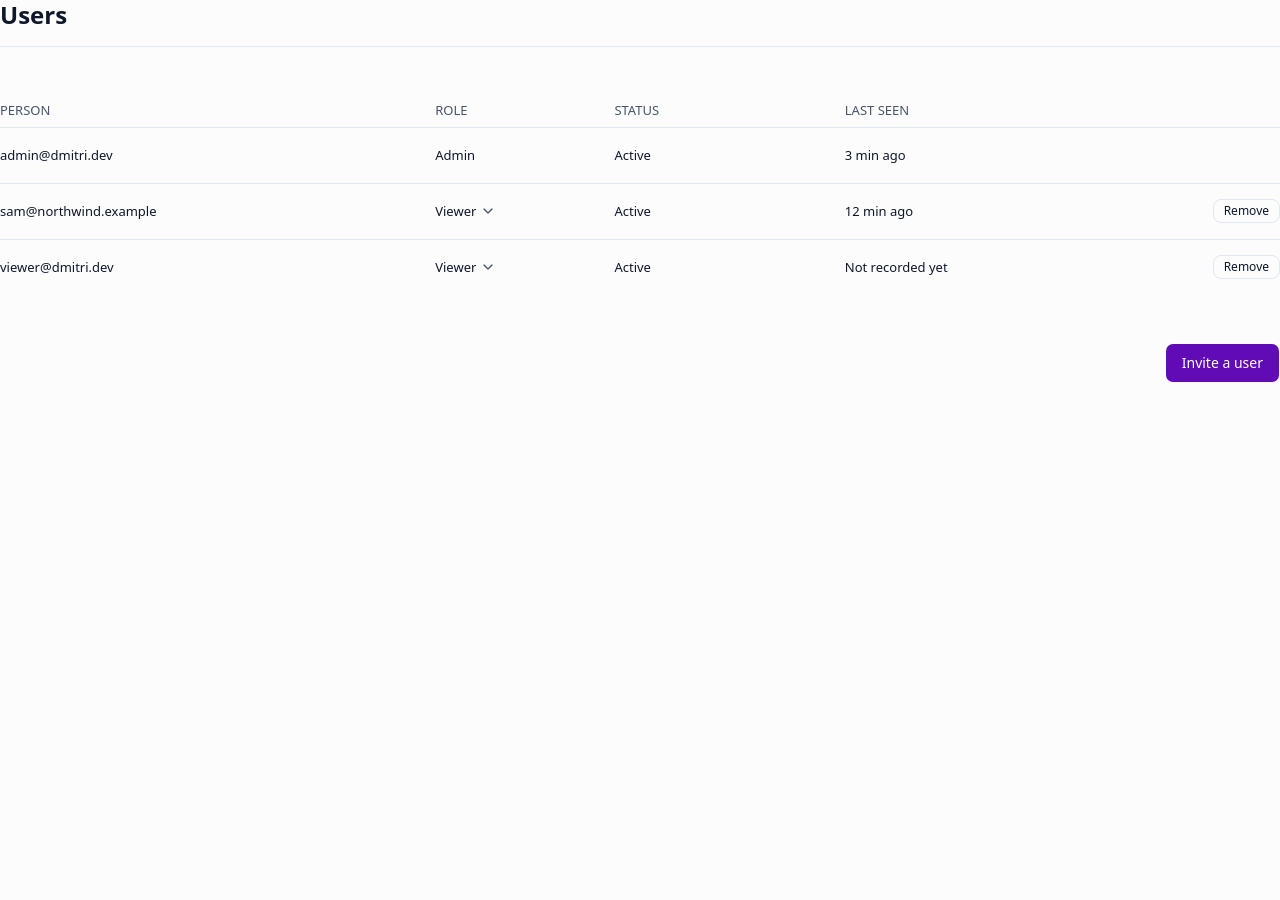
Users member removal › leaves the confirm inert for a mistyped address and for the admin's own, firing no request
Click the button "Remove" in the row of "sam@northwind.example" at {"x": 1246, "y": 211}, box left=1213, top=199, right=1279, bottom=223
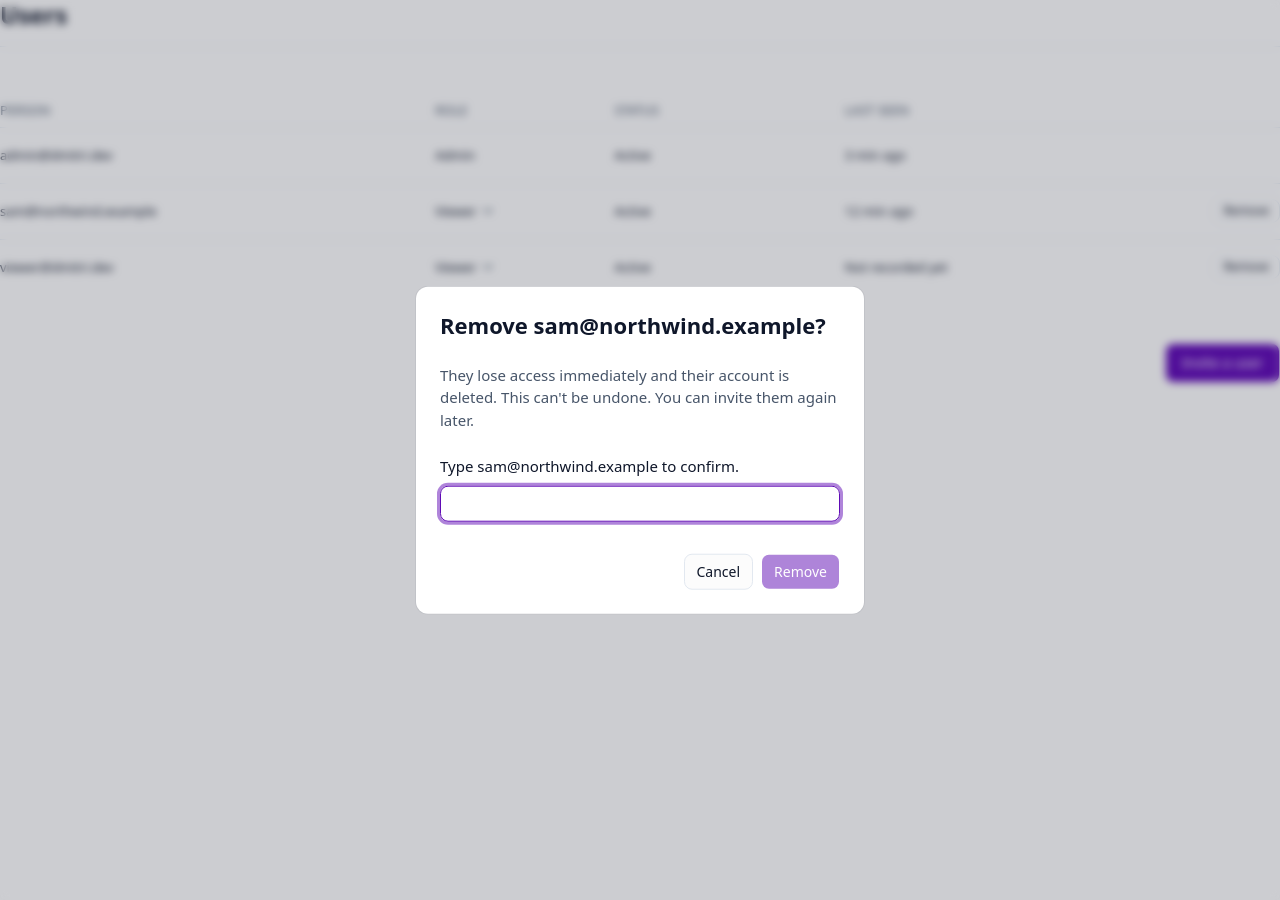
Type "sam@northwind.exampl" into the field labelled "Type sam@northwind.example to confirm." at {"x": 640, "y": 503}, box left=440, top=485, right=840, bottom=521
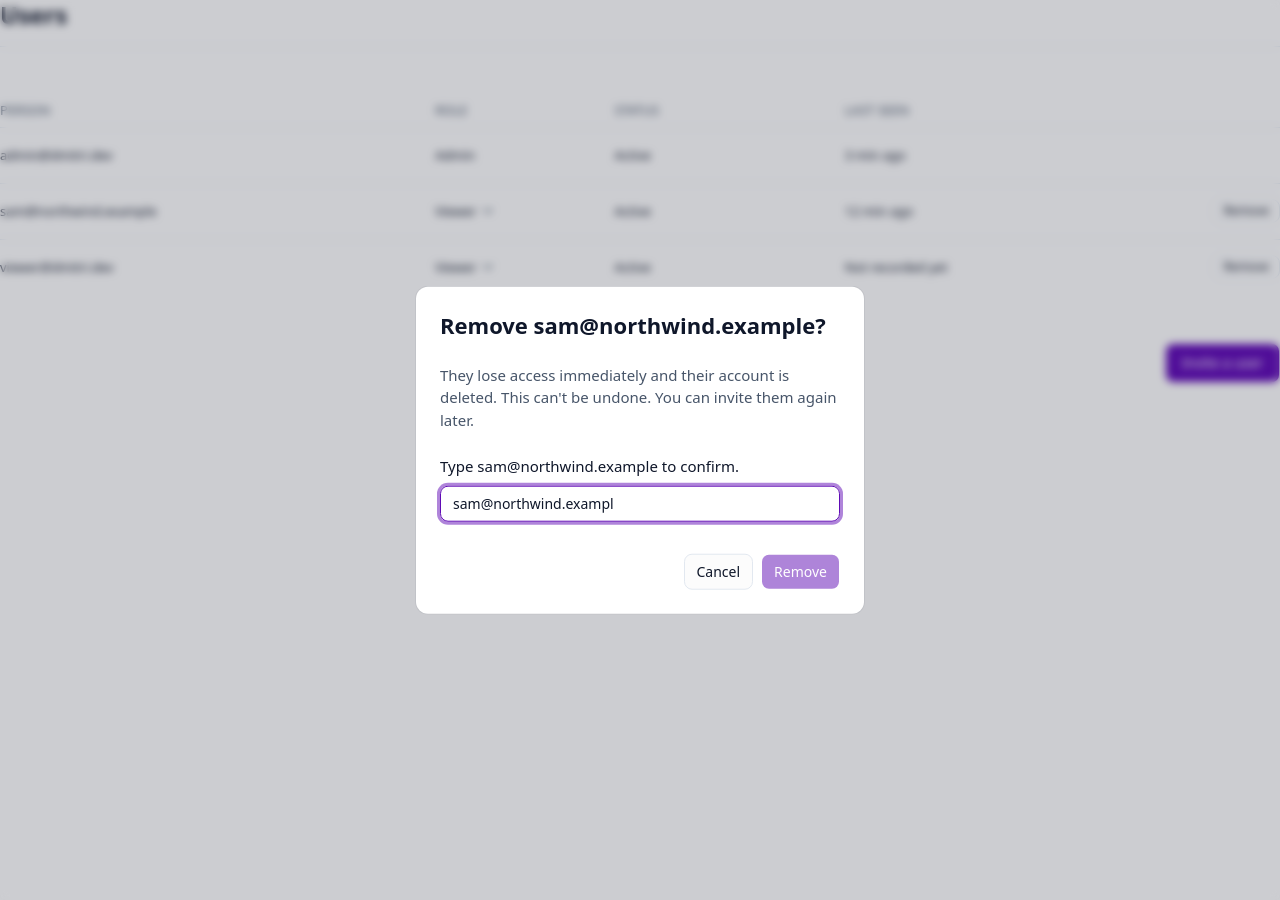
Click the button with test id "confirm-by-typing-submit" at {"x": 801, "y": 571}, box left=761, top=553, right=840, bottom=589
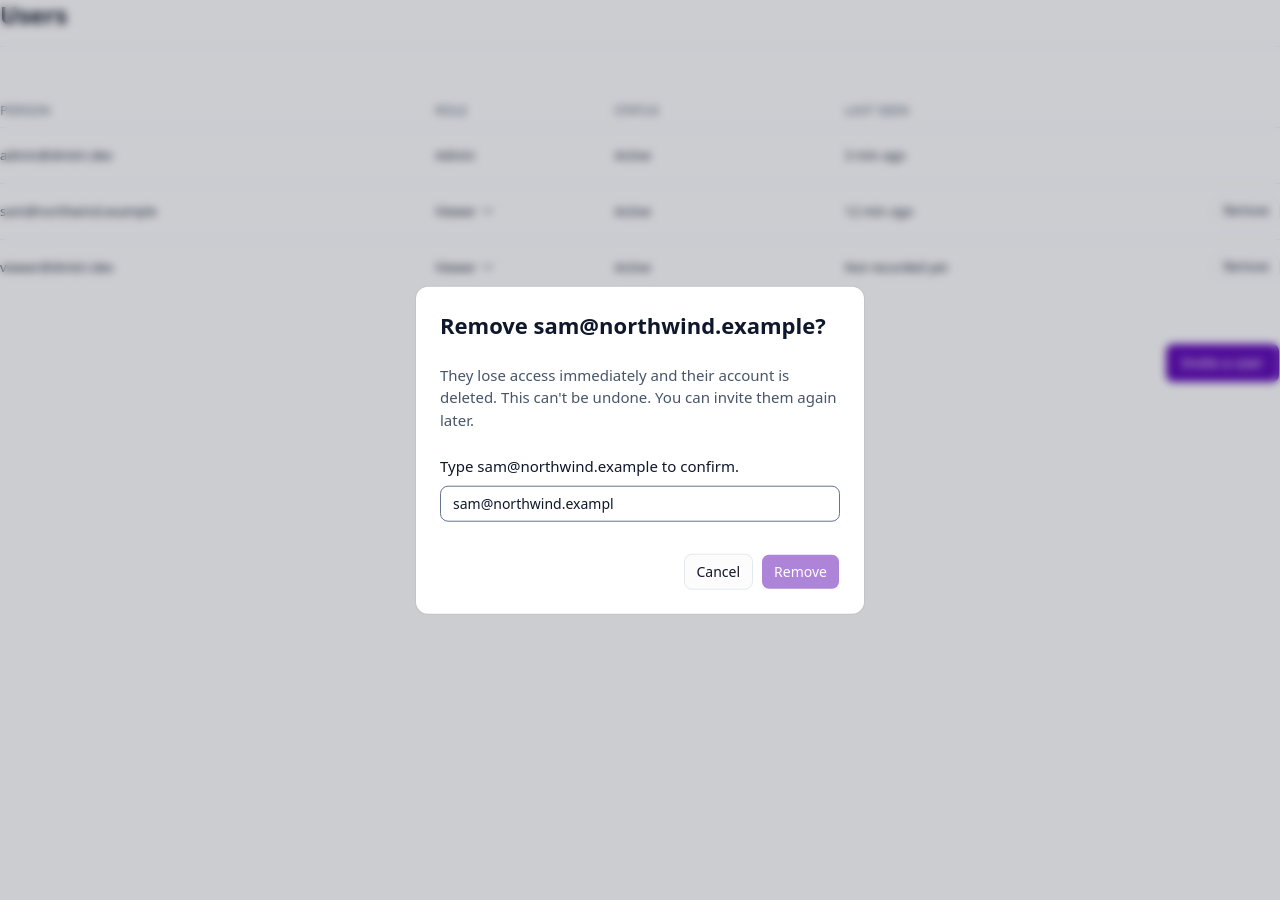
Replace the text in the field labelled "Type sam@northwind.example to confirm." with "admin@dmitri.dev" at {"x": 640, "y": 503}, box left=440, top=485, right=840, bottom=521
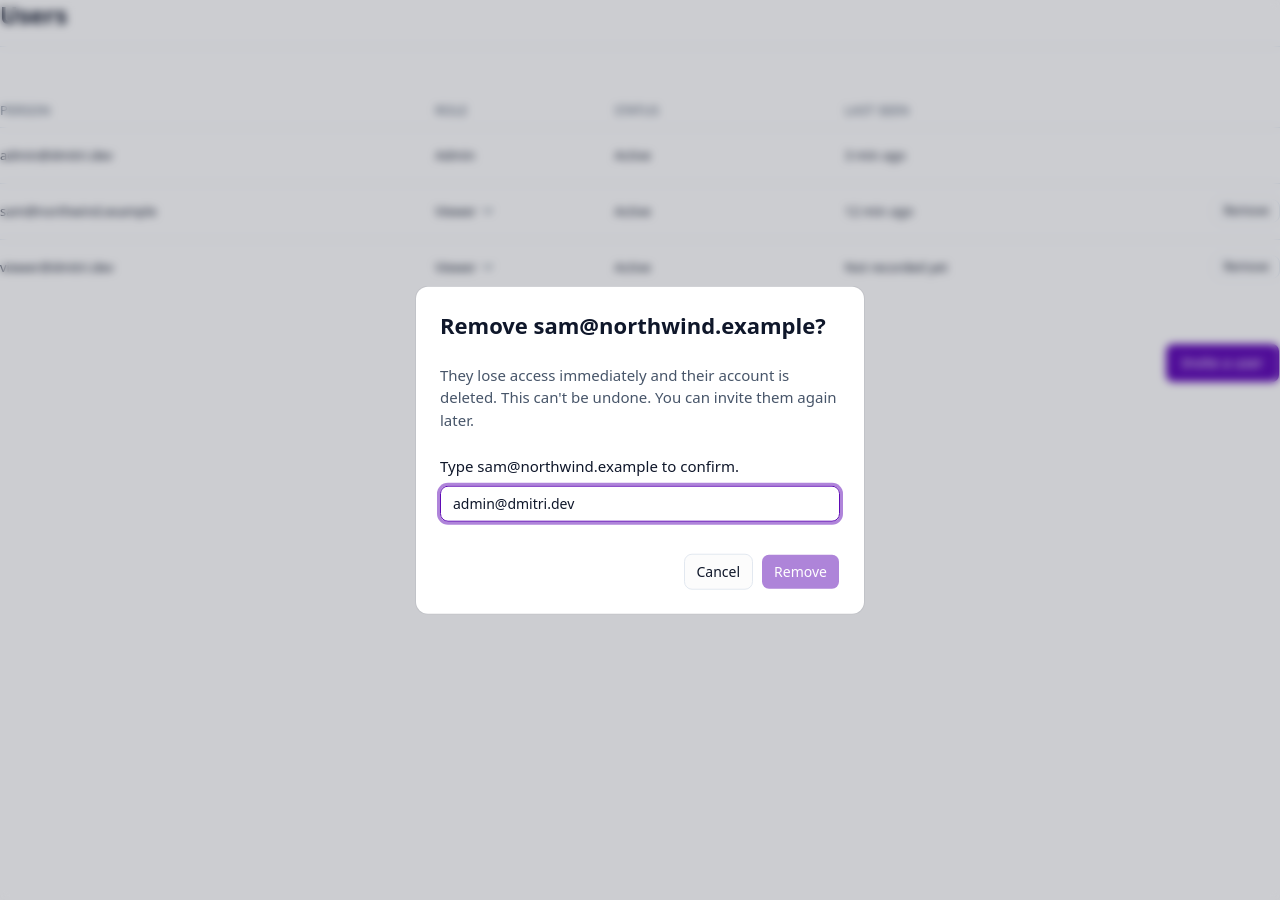
Click the button with test id "confirm-by-typing-submit" at {"x": 801, "y": 571}, box left=761, top=553, right=840, bottom=589
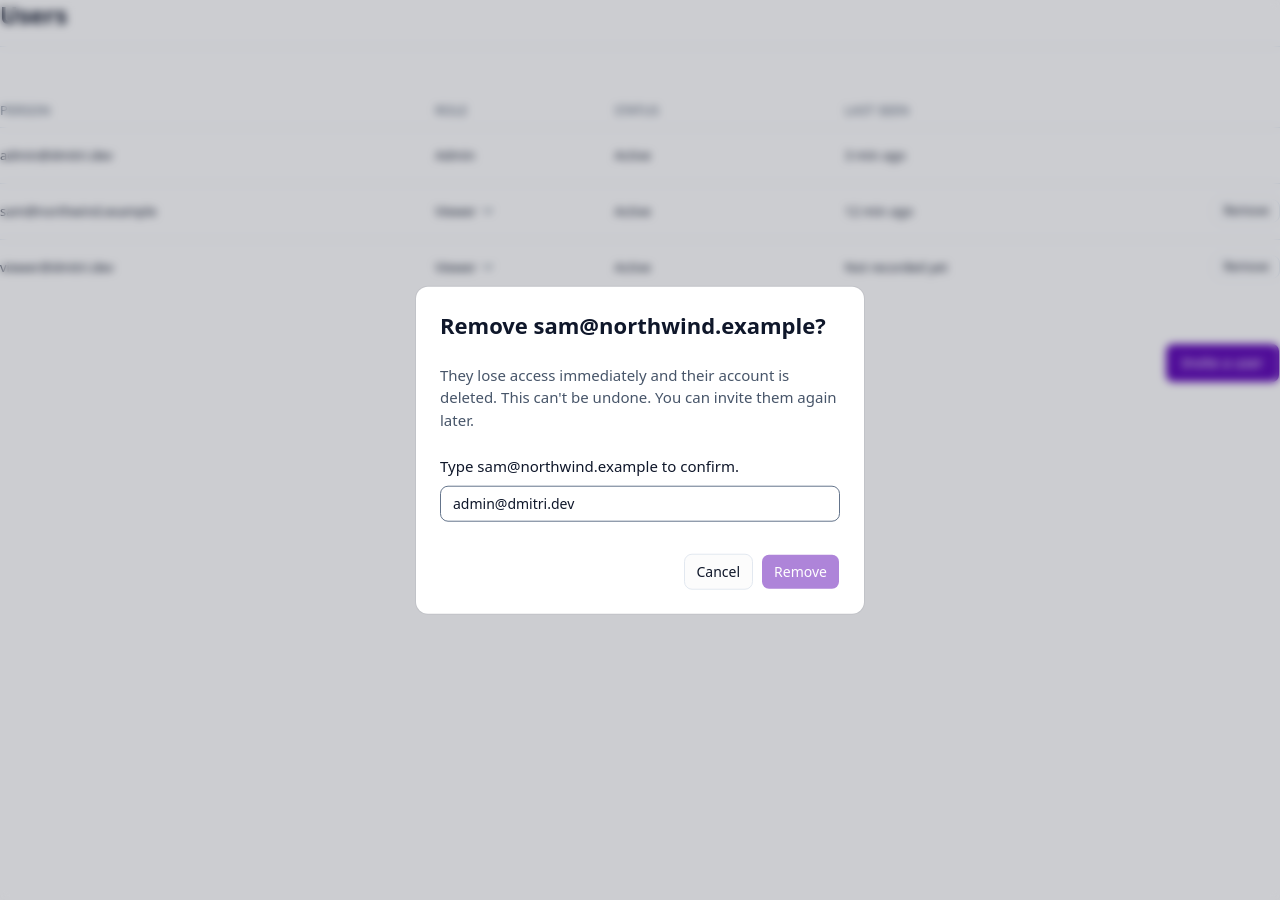
Check: the dialog with test id "confirm-by-typing-dialog" is shown, box left=416, top=287, right=864, bottom=613
Replace the text in the field labelled "Type sam@northwind.example to confirm." with "sam@northwind.example" at {"x": 640, "y": 503}, box left=440, top=485, right=840, bottom=521
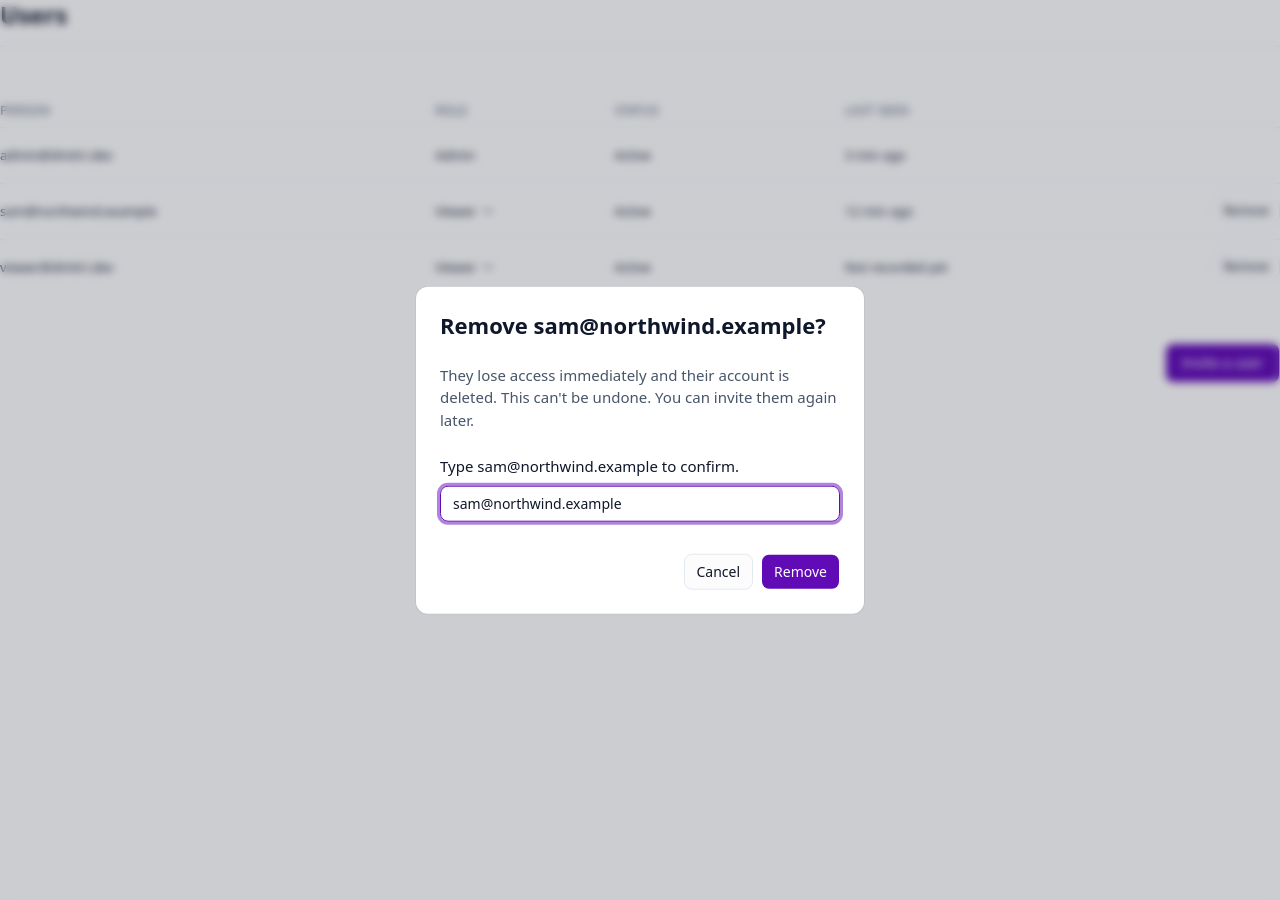
Check: the button with test id "confirm-by-typing-submit" is enabled, box left=761, top=553, right=840, bottom=589
